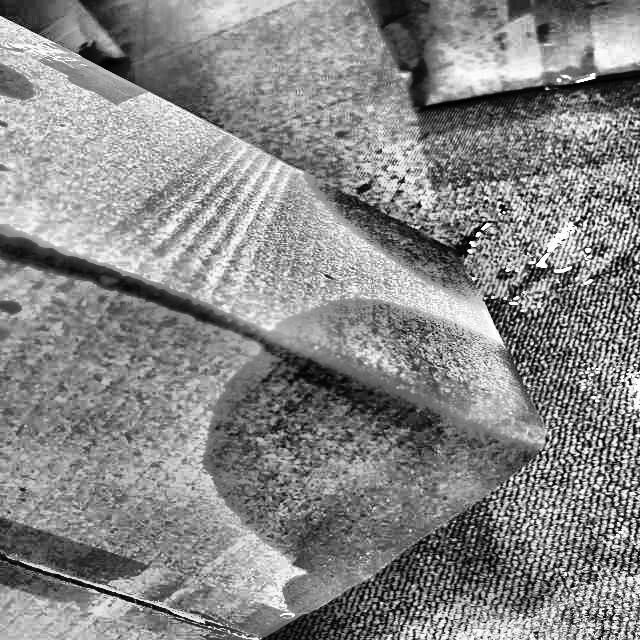box: (0, 0, 555, 640)
wet: (205, 159, 533, 621)
